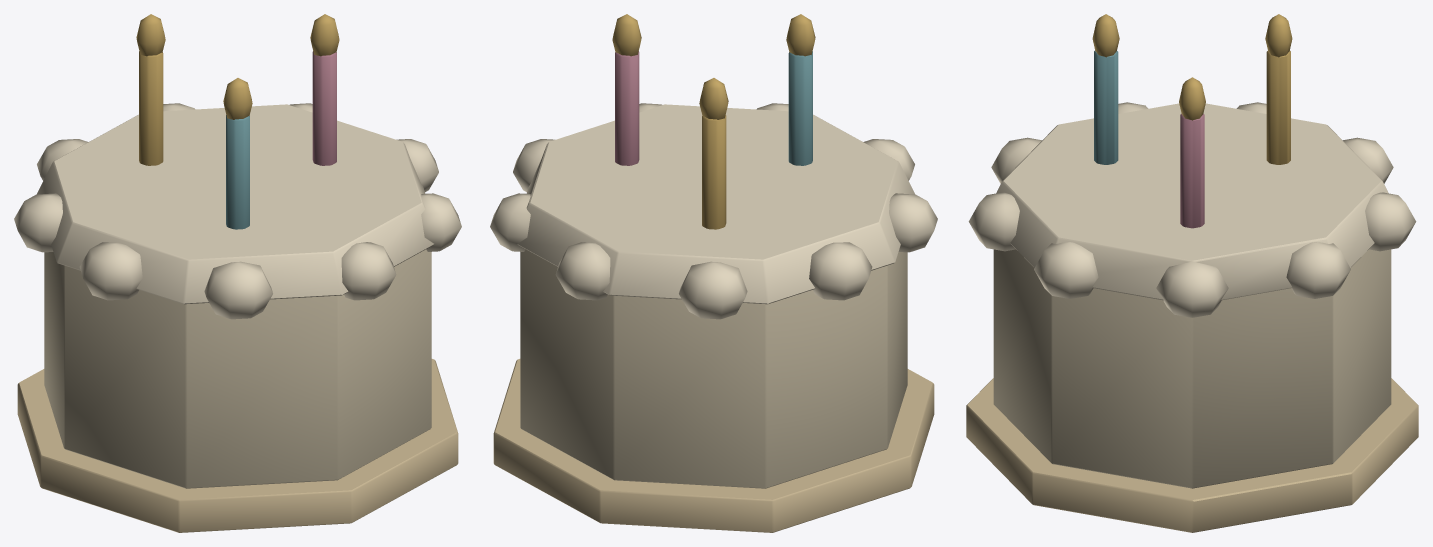
Rendered from birthday_cake_low.glb.
3 renders of one model, left to right at view 1: azimuth 30°, elevation 25°; view 2: azimuth 150°, elevation 25°; view 3: azimuth 270°, elevation 25°, orthographic.
Size of the model in its own units: 0.4994 by 0.49 by 0.4989.
